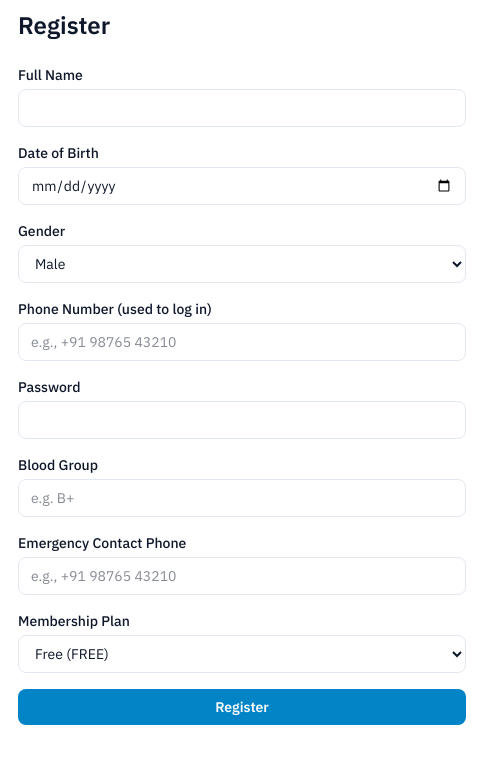
RegisterPage › shows a validation error for an invalid emergency contact phone
Type "Test Patient" into the field labelled "Full Name" at {"x": 242, "y": 108}, box [18,89,466,127]
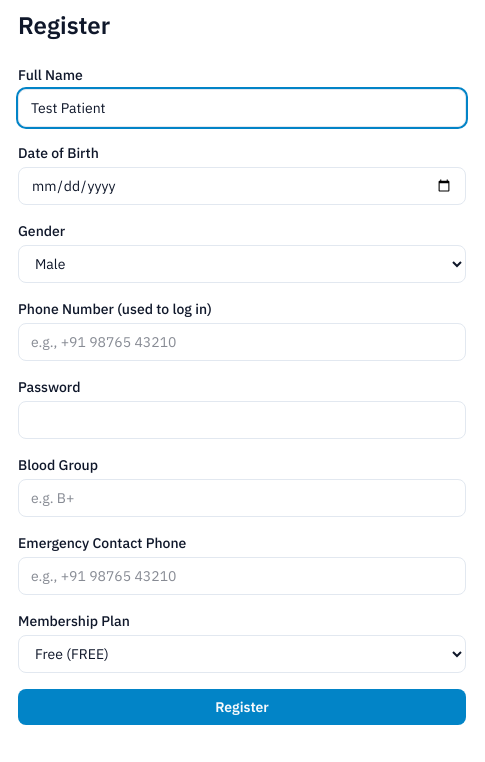
Type "1990-01-01" into the date field labelled "Date of Birth" at {"x": 242, "y": 186}, box [18,167,466,205]
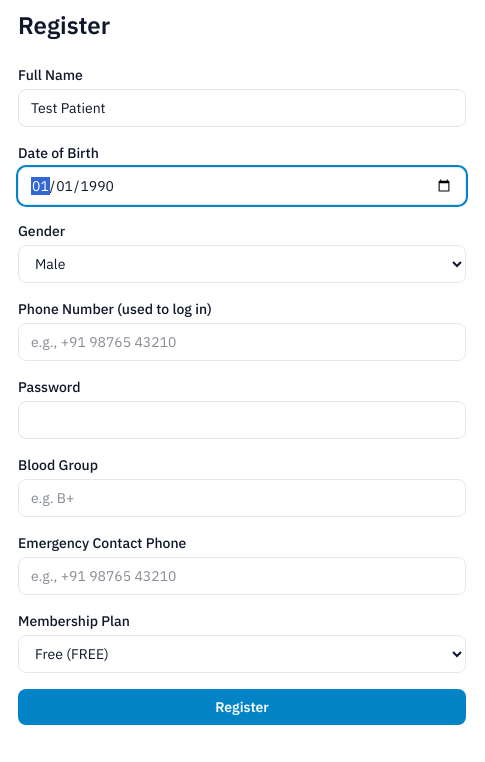
Type "+919876500000" into the field labelled "Phone Number (used to log in)" at {"x": 242, "y": 342}, box [18,323,466,361]
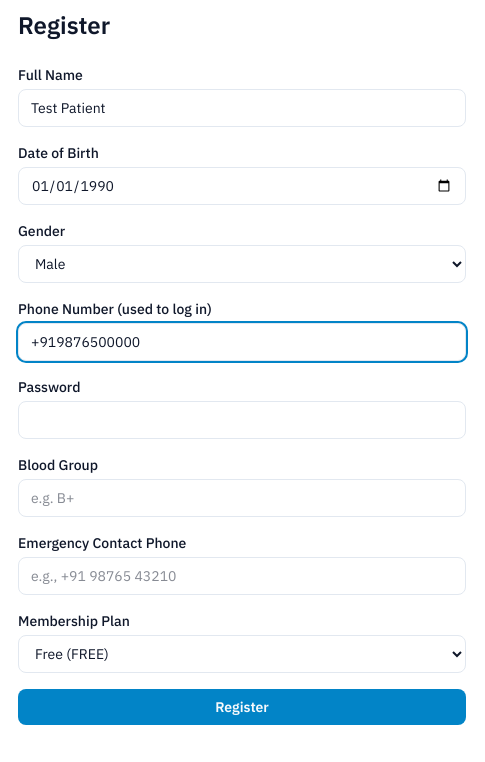
Type "Patient@123" into the password field labelled "Password" at {"x": 242, "y": 420}, box [18,401,466,439]
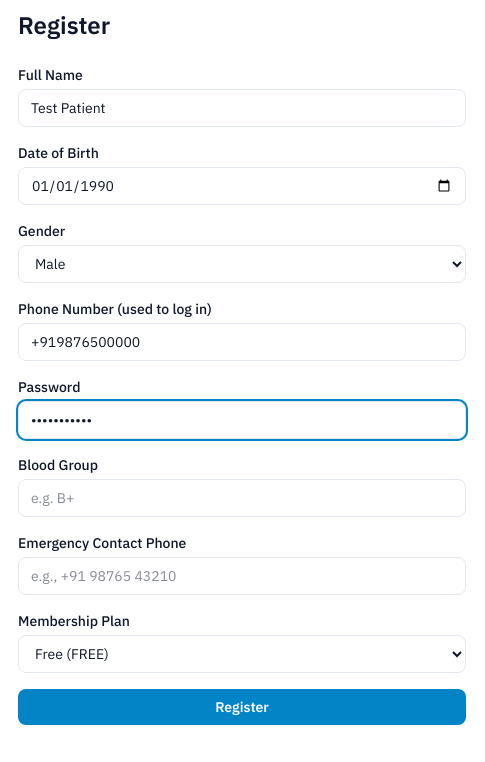
Type "123" into the field labelled "Emergency Contact Phone" at {"x": 242, "y": 576}, box [18,557,466,595]
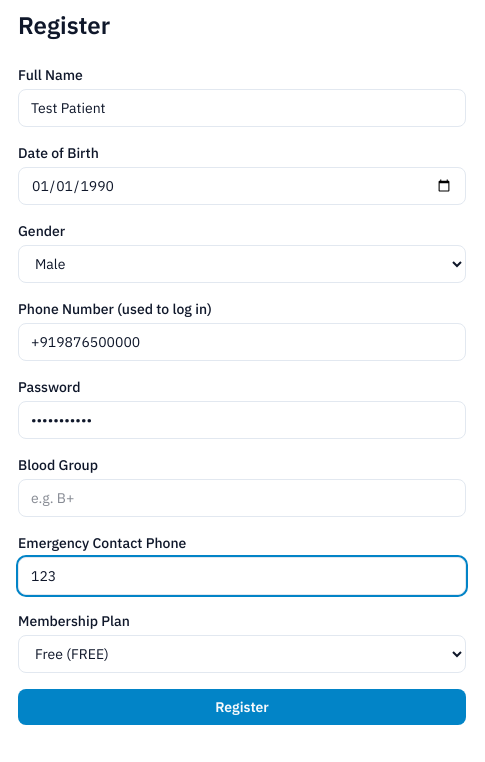
Click the button "Register" at {"x": 242, "y": 707}, box [18,689,466,725]
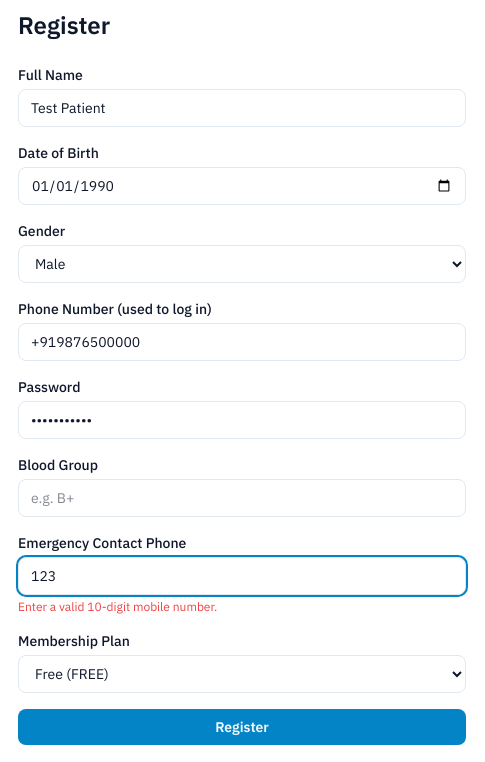
Expected: the text "Enter a valid 10-digit mobile number." is shown, [18,599,217,614]
